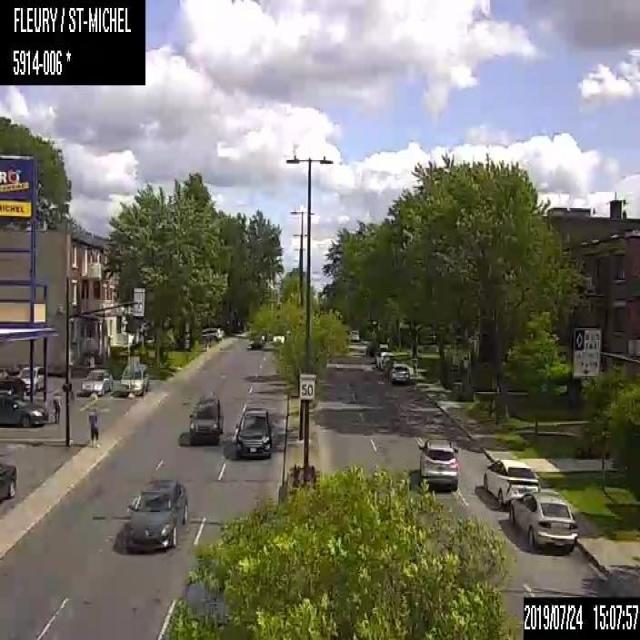pedestrian: (87, 408, 99, 447), (50, 388, 60, 424)
vehicle: (125, 476, 189, 552), (509, 489, 578, 552), (482, 458, 540, 506), (416, 435, 458, 493), (235, 406, 272, 458), (186, 393, 222, 444), (0, 392, 47, 428), (0, 455, 19, 509), (120, 358, 146, 396), (79, 365, 112, 393), (14, 362, 45, 389), (388, 361, 410, 383), (374, 349, 392, 369), (200, 326, 223, 339), (248, 333, 262, 349), (348, 328, 359, 340), (272, 332, 283, 343)
